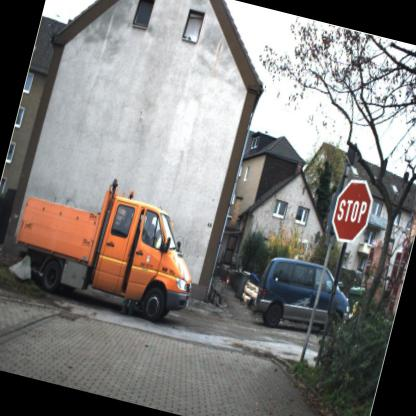other: (326, 168, 378, 248)
